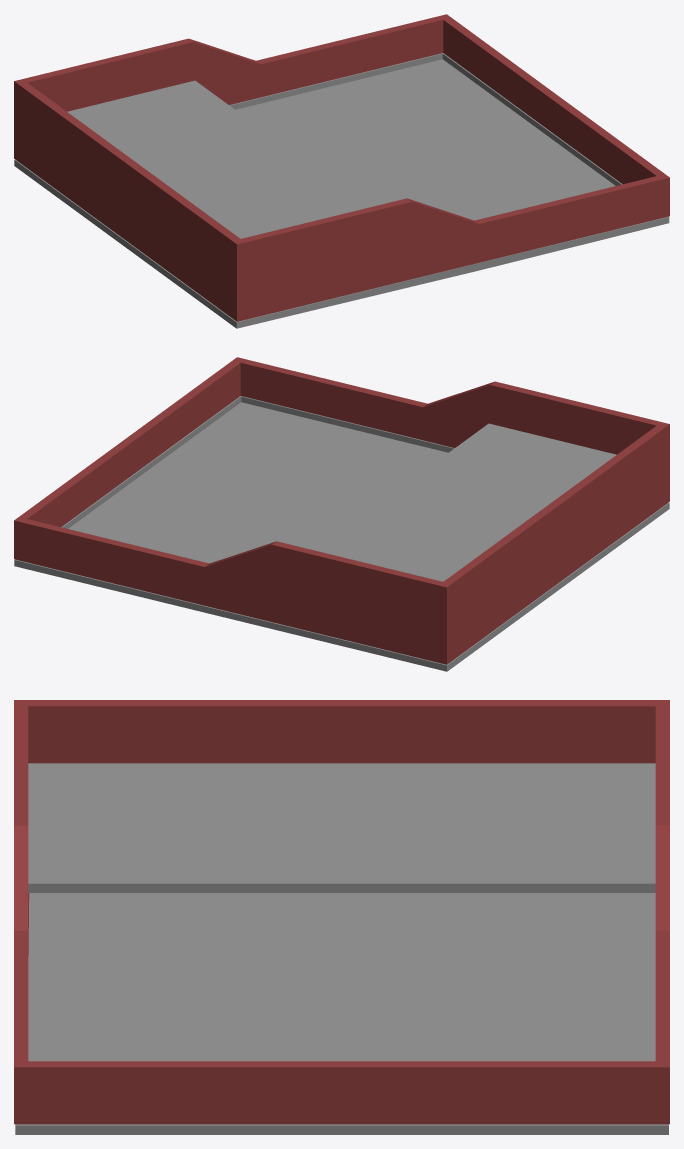
The model's file is weiqiang4.fbx.
3 views of the same model, one above another, from view 1: azimuth 30°, elevation 25°; view 2: azimuth 150°, elevation 25°; view 3: azimuth 270°, elevation 25° (orthographic). The views are drawn at different scales.
Parts seen in each view (by area): view 1: wall_78_0, 图形005, 图形006; view 2: wall_78_0, 图形005, 图形006; view 3: 图形005, wall_78_0, 图形006.
Boxes of the visible parts, box(x1,y1,x2,y2) form: wall_78_0: box(14, 14, 669, 321); 图形005: box(14, 59, 669, 328); 图形006: box(67, 80, 368, 238); wall_78_0: box(14, 357, 669, 664); 图形005: box(14, 402, 669, 671); 图形006: box(315, 423, 616, 581); 图形005: box(15, 893, 668, 1134); wall_78_0: box(14, 700, 669, 1124); 图形006: box(28, 763, 655, 892).
Size of the model in its own units: 3309 by 622 by 2955.
